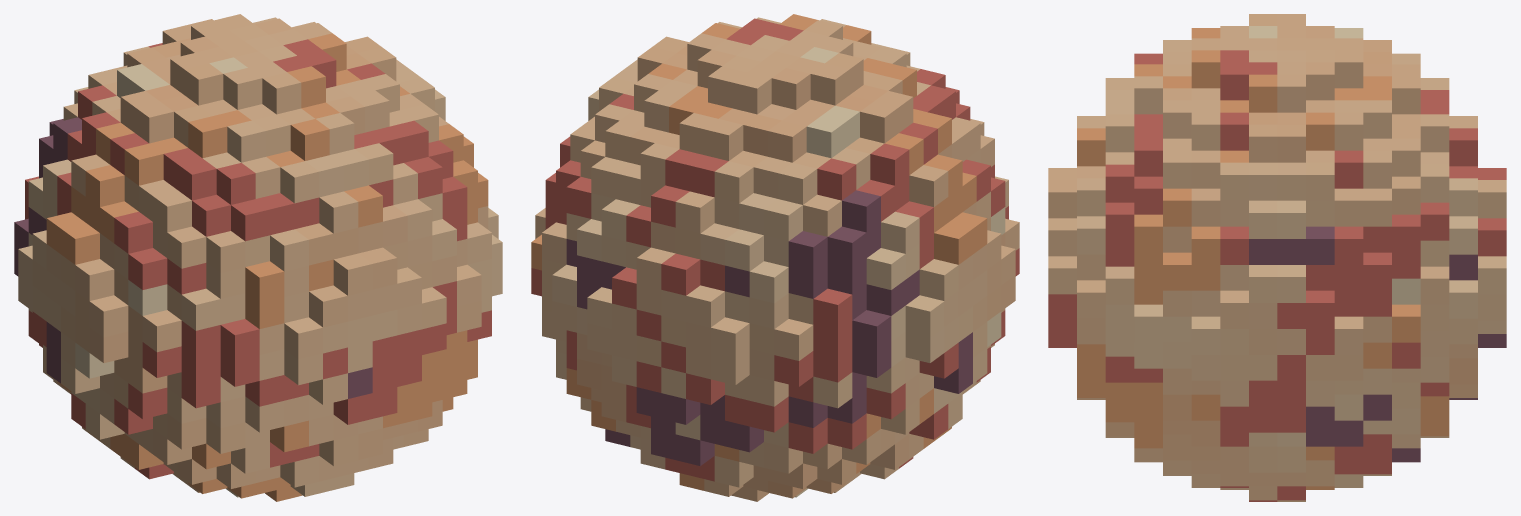
The model's file is lava.glb.
3 renders of one model, left to right at view 1: azimuth 30°, elevation 25°; view 2: azimuth 150°, elevation 25°; view 3: azimuth 270°, elevation 25°, orthographic.
Parts seen in each view (by area): view 1: Surface; view 2: Surface; view 3: Surface.
Part boxes in pixels (x1=…): Surface: x1=14, y1=14, x2=502, y2=501; Surface: x1=531, y1=14, x2=1019, y2=501; Surface: x1=1048, y1=14, x2=1506, y2=501.
Bounding box in the file's own units: 2 × 2 × 2.
